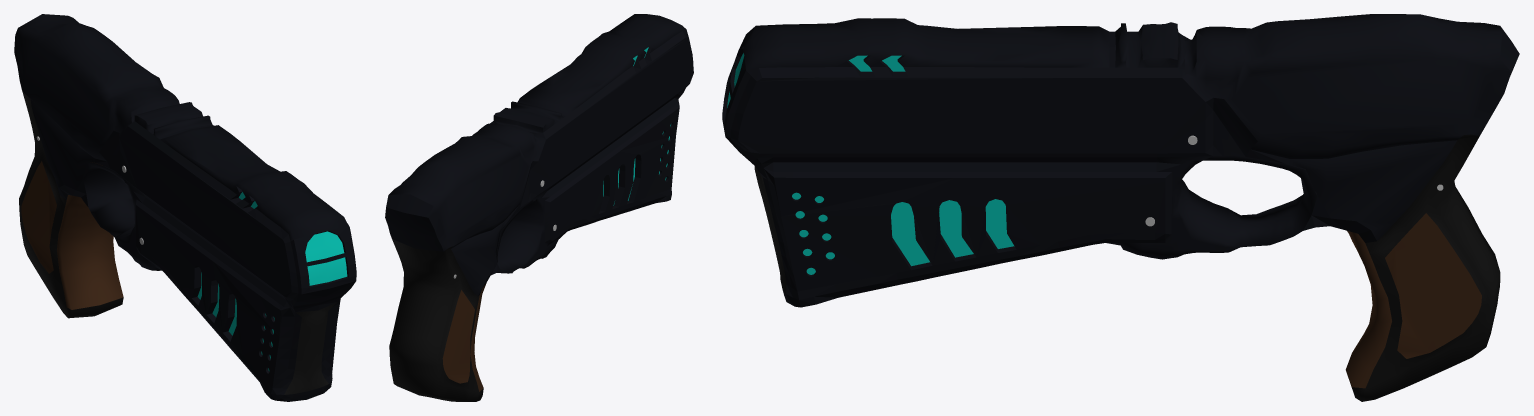
Rendered from Gun.FBX.
3 renders of one model, left to right at view 1: azimuth 30°, elevation 25°; view 2: azimuth 150°, elevation 25°; view 3: azimuth 270°, elevation 25°, orthographic. The views are drawn at different scales.
Parts seen in each view (by area): view 1: Gun; view 2: Gun; view 3: Gun.
Part boxes in pixels (x1=…): Gun: x1=14, y1=14, x2=356, y2=401; Gun: x1=385, y1=14, x2=693, y2=401; Gun: x1=722, y1=14, x2=1519, y2=401.
Bounding box in the file's own units: 3.82 × 15.18 × 29.18.
